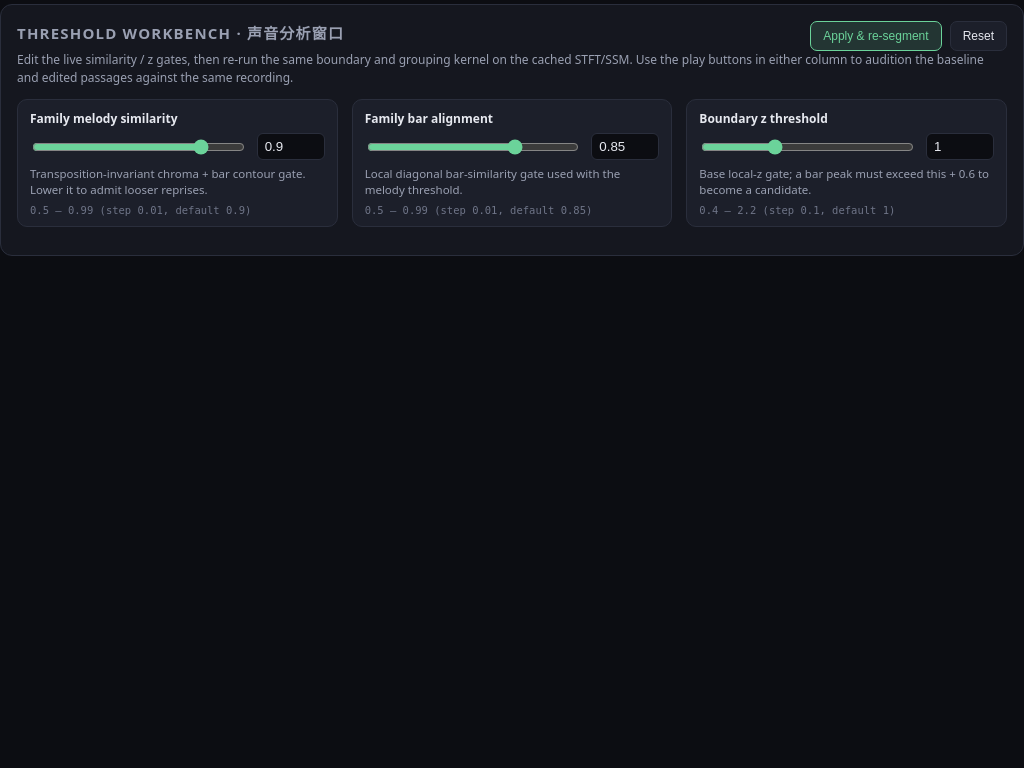
Scenario: threshold workbench (kernel-driven UI) › reset clears the edited diff and restores default draft values
Replace the text in the field with test id "boundary-z-threshold-text" with "1.6" at x=960, y=146, box 926,133 -> 994,160
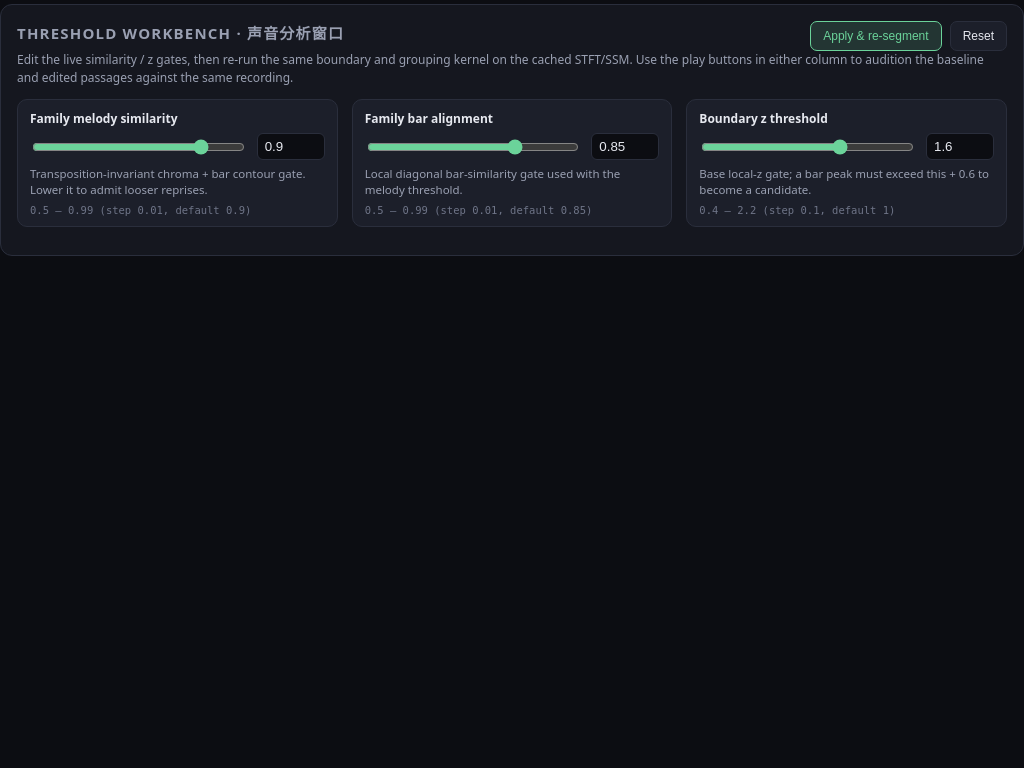
Click the button with test id "apply-resegment" at x=876, y=36, box 810,21 -> 942,51
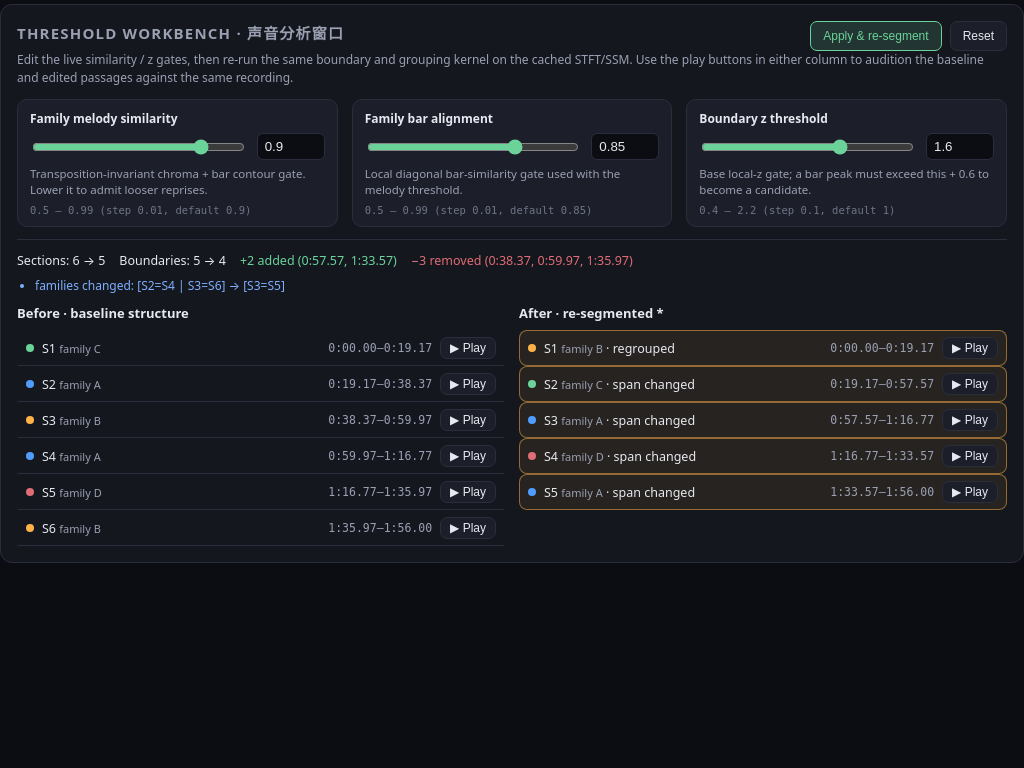
Expected: the element with test id "structure-diff" is shown, 17,239 -> 1007,546
Click the button with test id "reset-resegment" at x=978, y=36, box 950,21 -> 1007,51
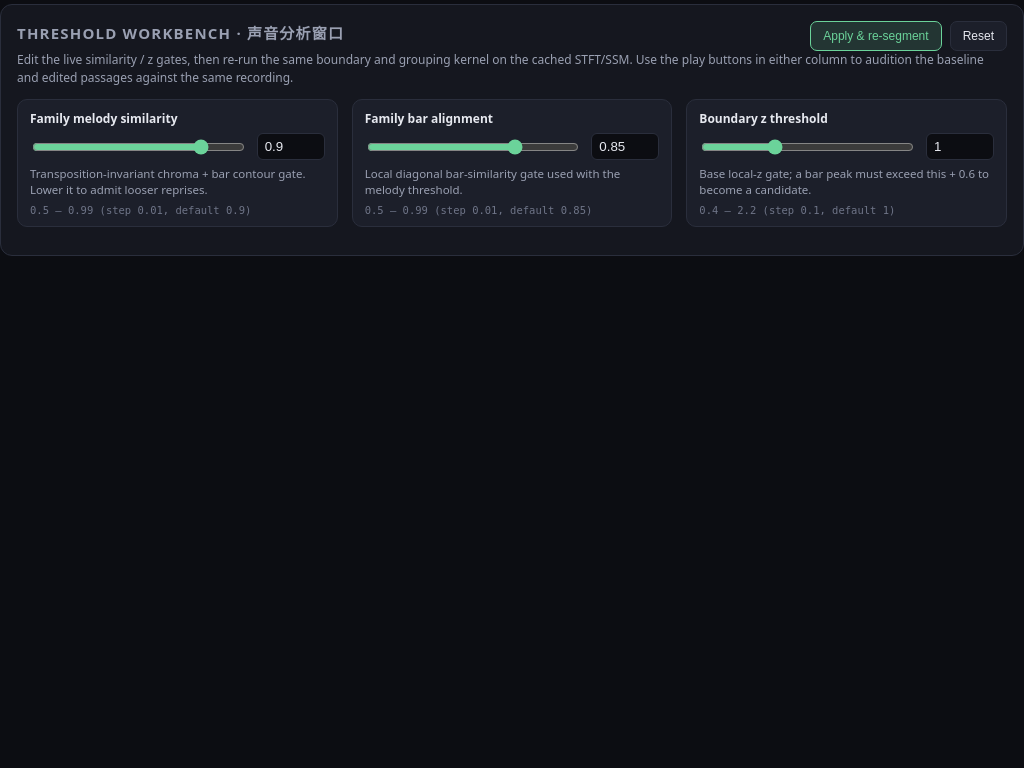
Expected: the element with test id "structure-diff" is gone
Expected: the field with test id "boundary-z-threshold-text" holds "1", 926,133 -> 994,160
